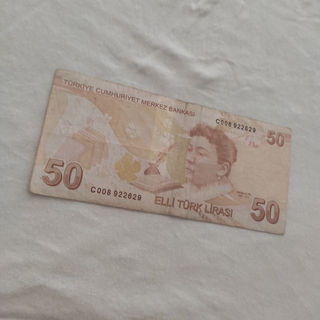50TLBack: (28, 68, 292, 235)
